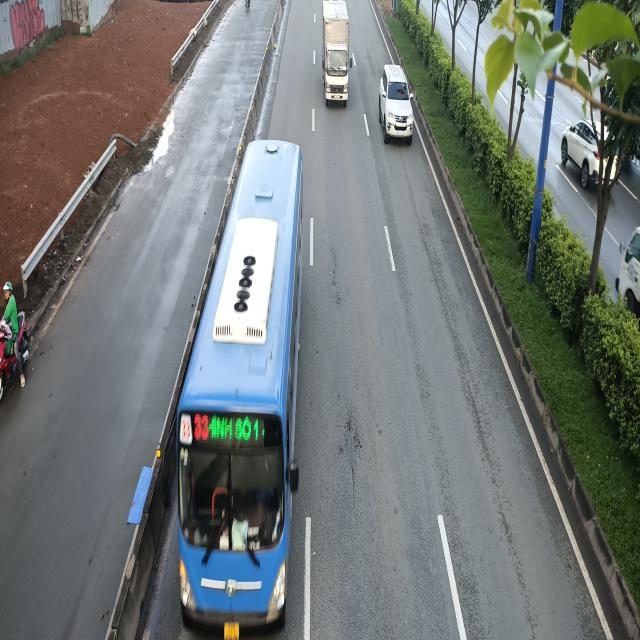car: (381, 63, 416, 145)
coach: (176, 139, 304, 638)
truck: (324, 0, 354, 105)
